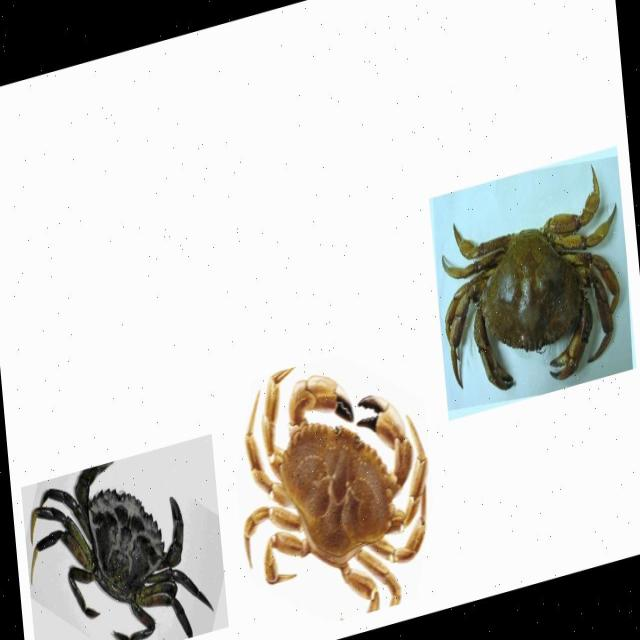egc: (29, 460, 216, 638)
